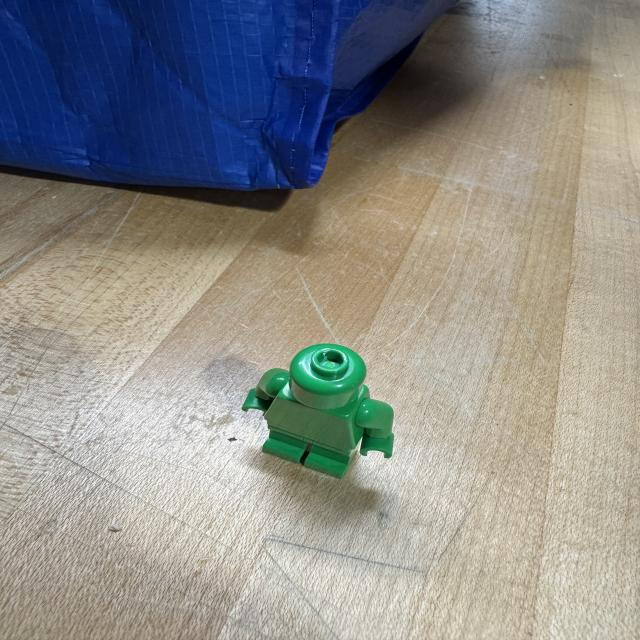Green Mini Figure: (242, 344, 394, 478)
